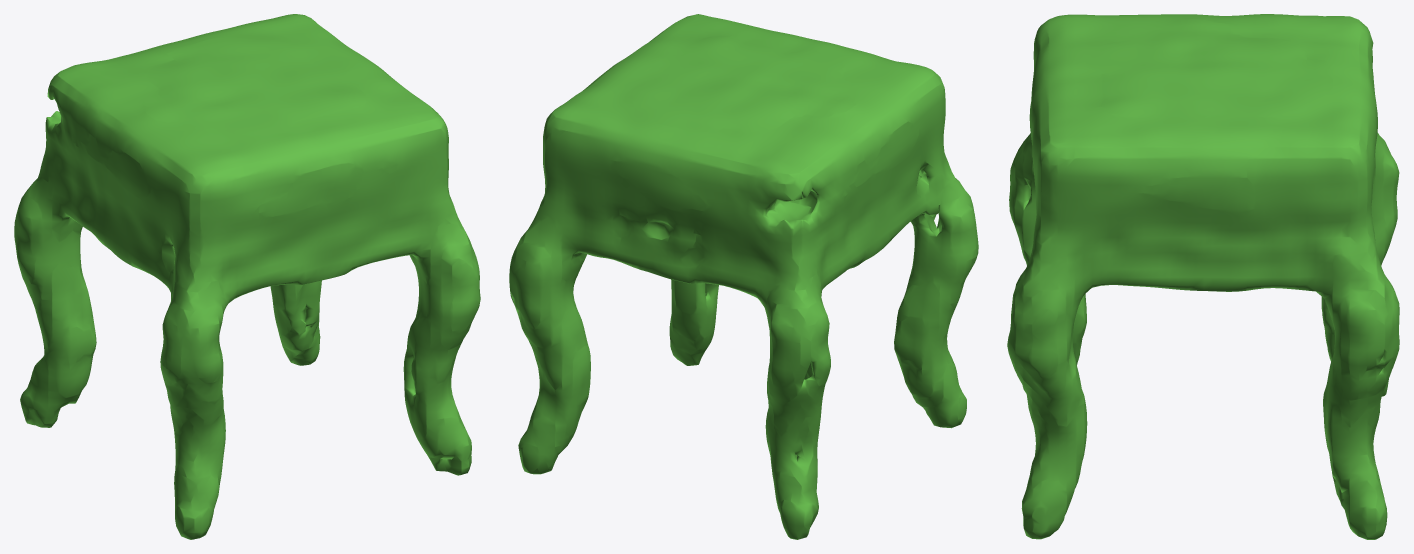
File: chair_4_3.obj
3 views of the same model, side by side, from view 1: azimuth 30°, elevation 25°; view 2: azimuth 150°, elevation 25°; view 3: azimuth 270°, elevation 25° (orthographic). The views are drawn at different scales.
Size of the model in its own units: 0.715 by 0.7991 by 0.7144.
